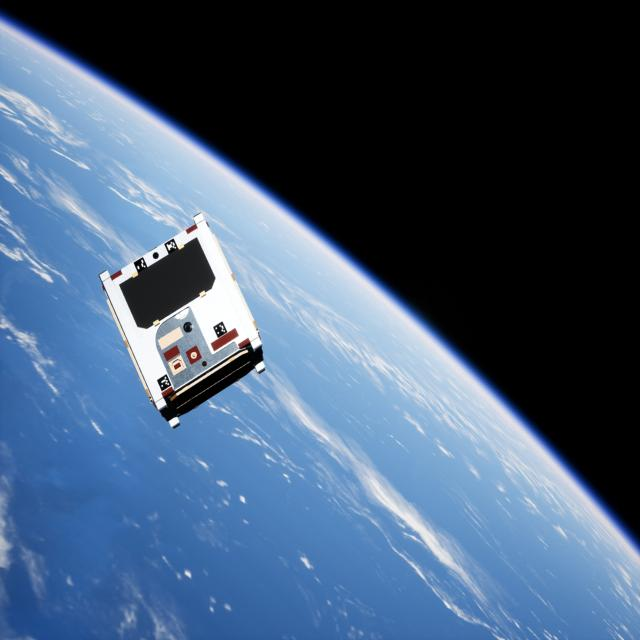medium_debris: (94, 212, 271, 434)
